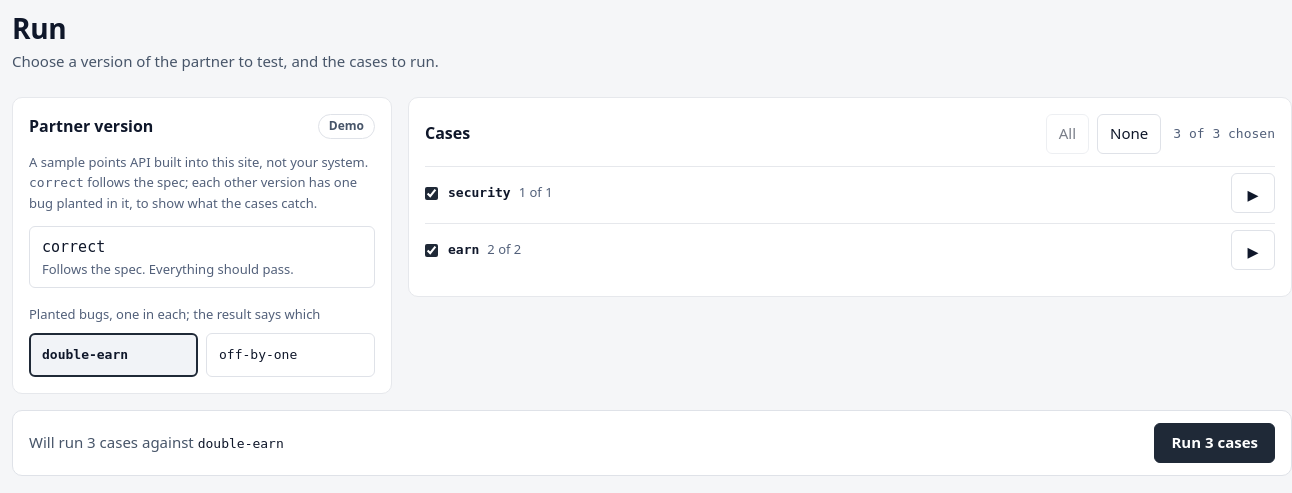
Scenario: the Run page › choosing cases › turns a whole group on from partly chosen, and off from all chosen
Click the button named "Show the earn cases". click: (1253, 250)
box: [1231, 230, 1275, 270]
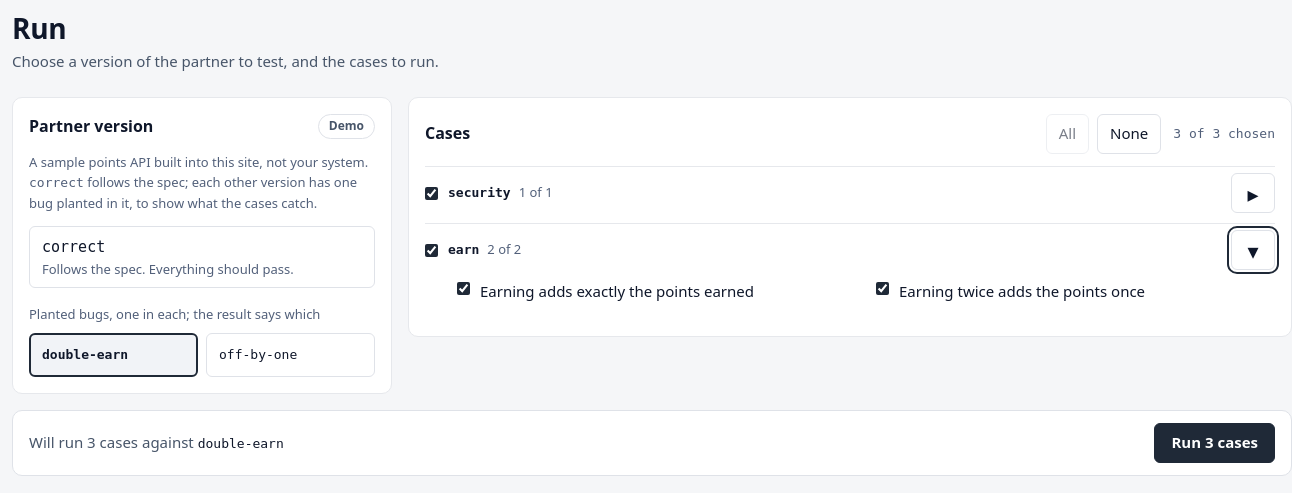
Click the button "▸". click: (1253, 193)
box: [1231, 173, 1275, 213]
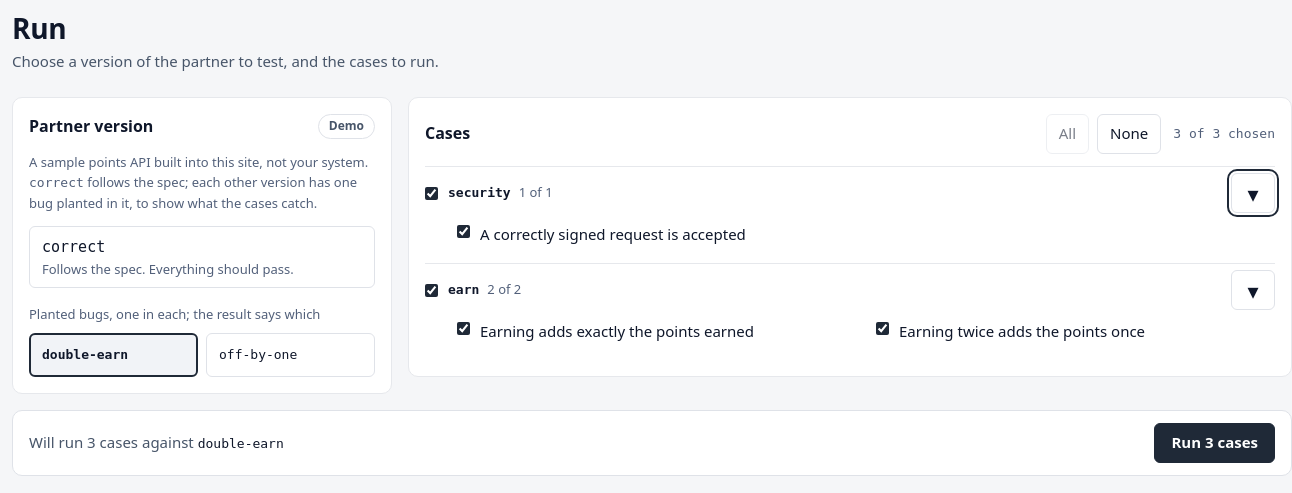
Click the checkbox labelled "Earning adds exactly the points earned". click: (464, 328)
box: [457, 322, 470, 335]
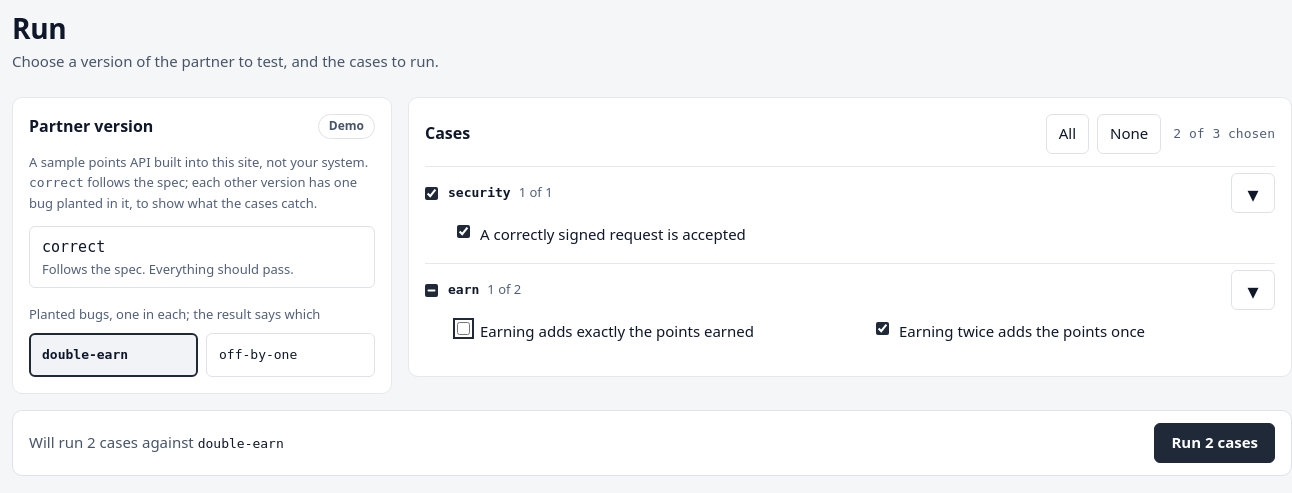
Click the checkbox labelled "earn 1 of 2". click: (432, 291)
box: [425, 284, 438, 297]
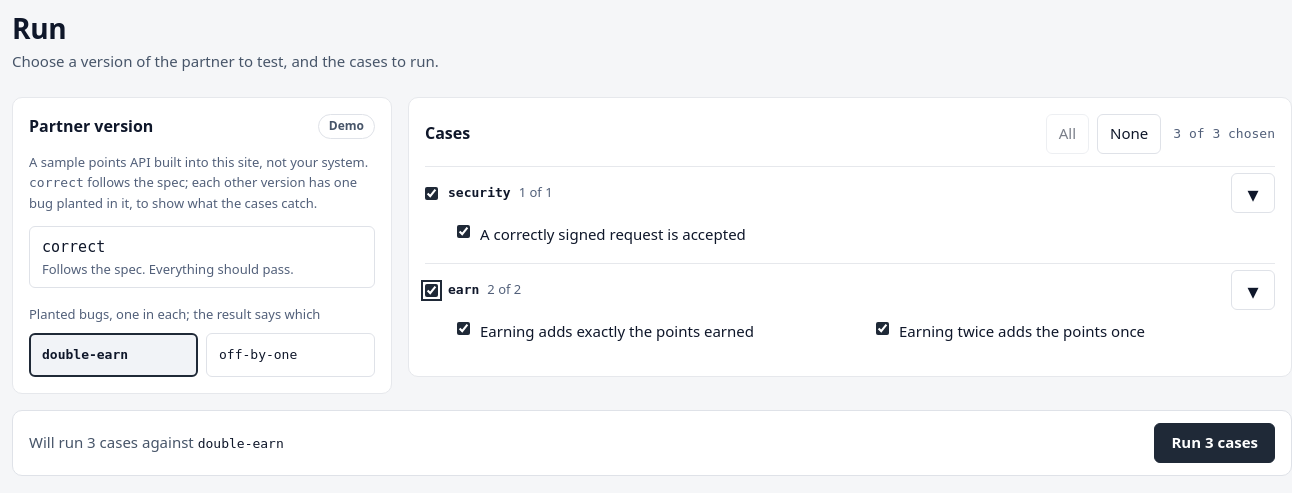
Now the checkbox labelled "Earning adds exactly the points earned" is checked, box [457, 322, 470, 335]
Now the checkbox labelled "earn 2 of 2" is checked
Click the checkbox labelled "earn 2 of 2". click: (432, 291)
box: [425, 284, 438, 297]
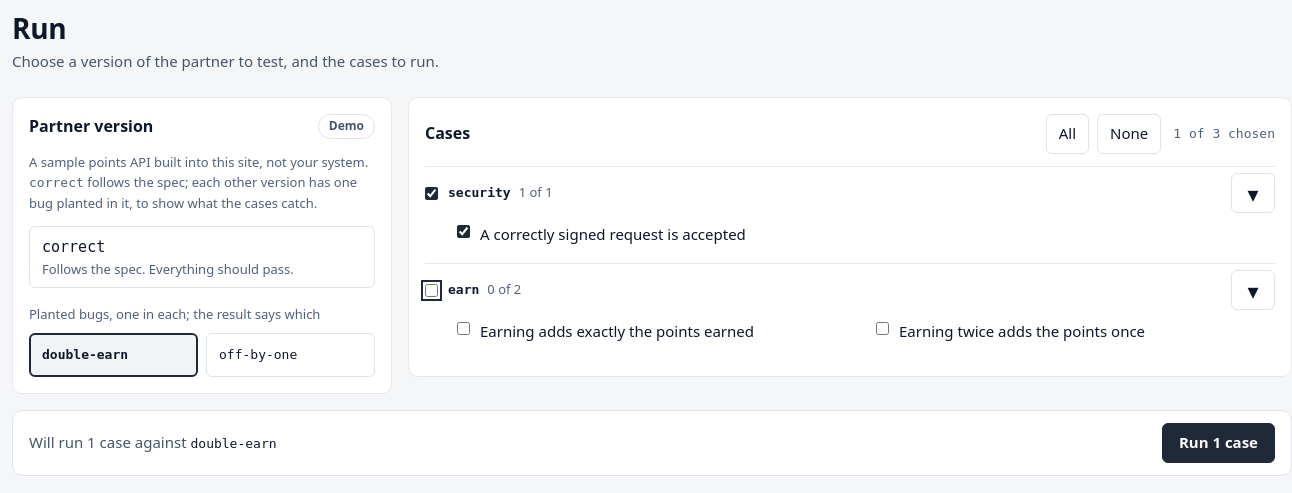
Now the checkbox labelled "Earning adds exactly the points earned" is not checked, box [457, 322, 470, 335]
Now the checkbox labelled "A correctly signed request is accepted" is checked, box [457, 225, 470, 238]
Now the checkbox labelled "Earning twice adds the points once" is not checked, box [876, 322, 889, 335]
